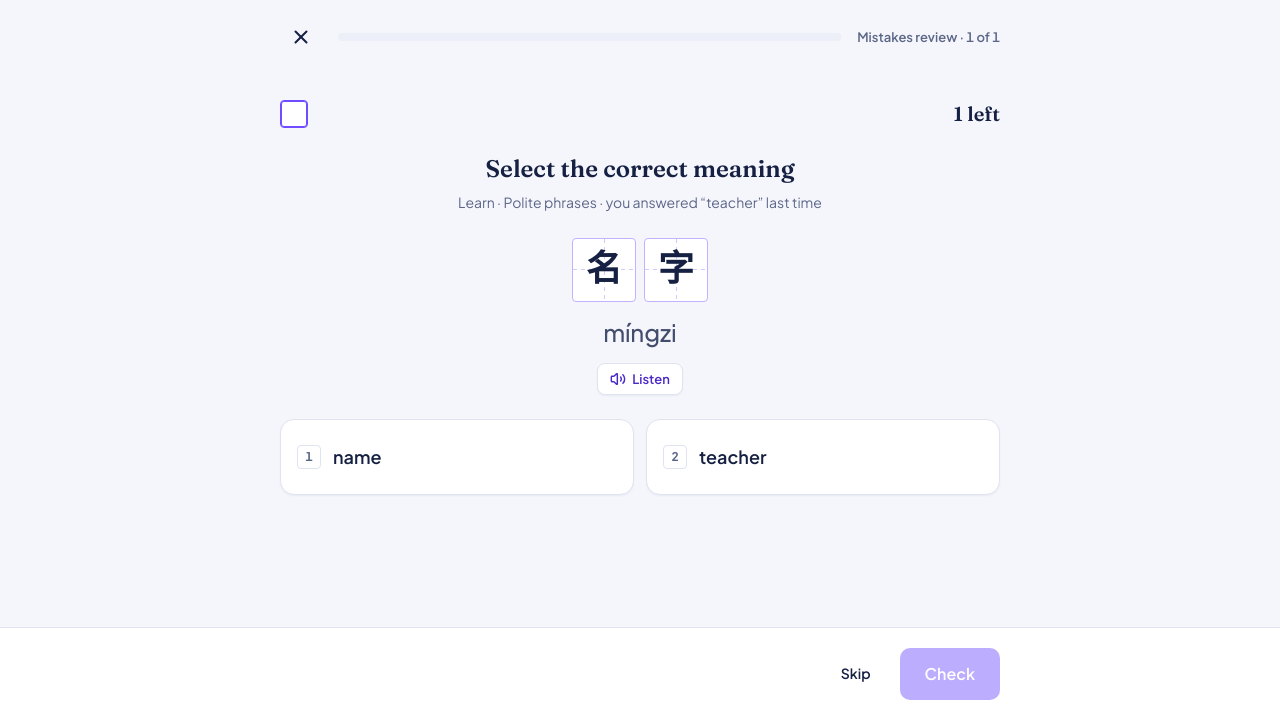
StudentMistakesReviewPage (focus mode review) › celebrates an empty list once the last mistake is fixed
The width and height of the screenshot is (1280, 720).
Click the button with test id "option-0".
click(357, 457)  # box [280,419,634,495]
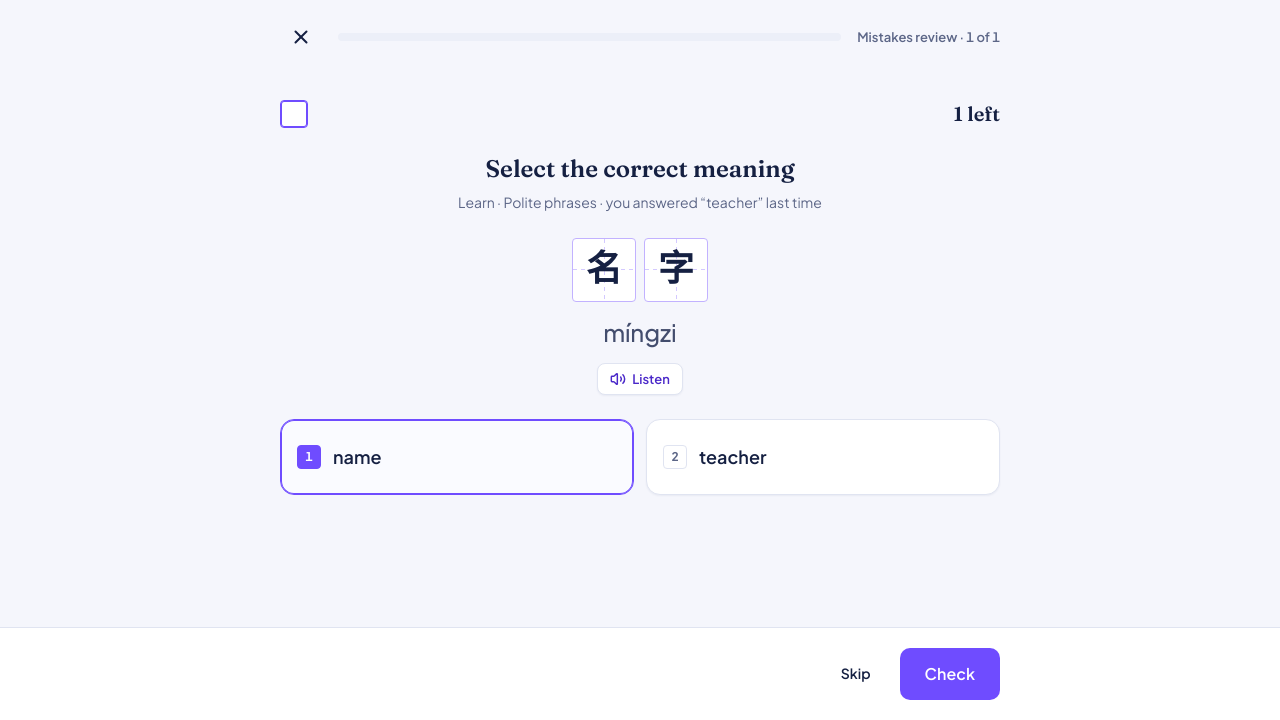
Click the button with test id "check".
click(950, 674)  # box [900,648,1000,700]
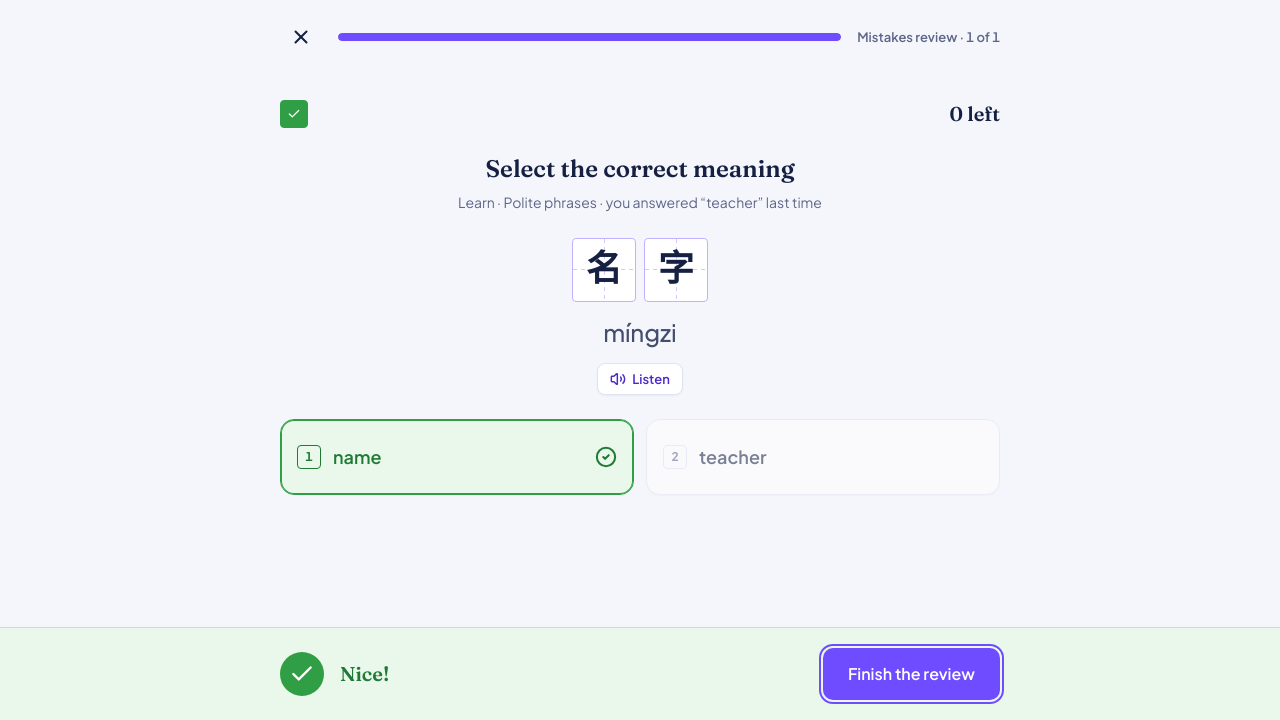
Click the button with test id "continue".
click(912, 674)  # box [823,648,1000,700]
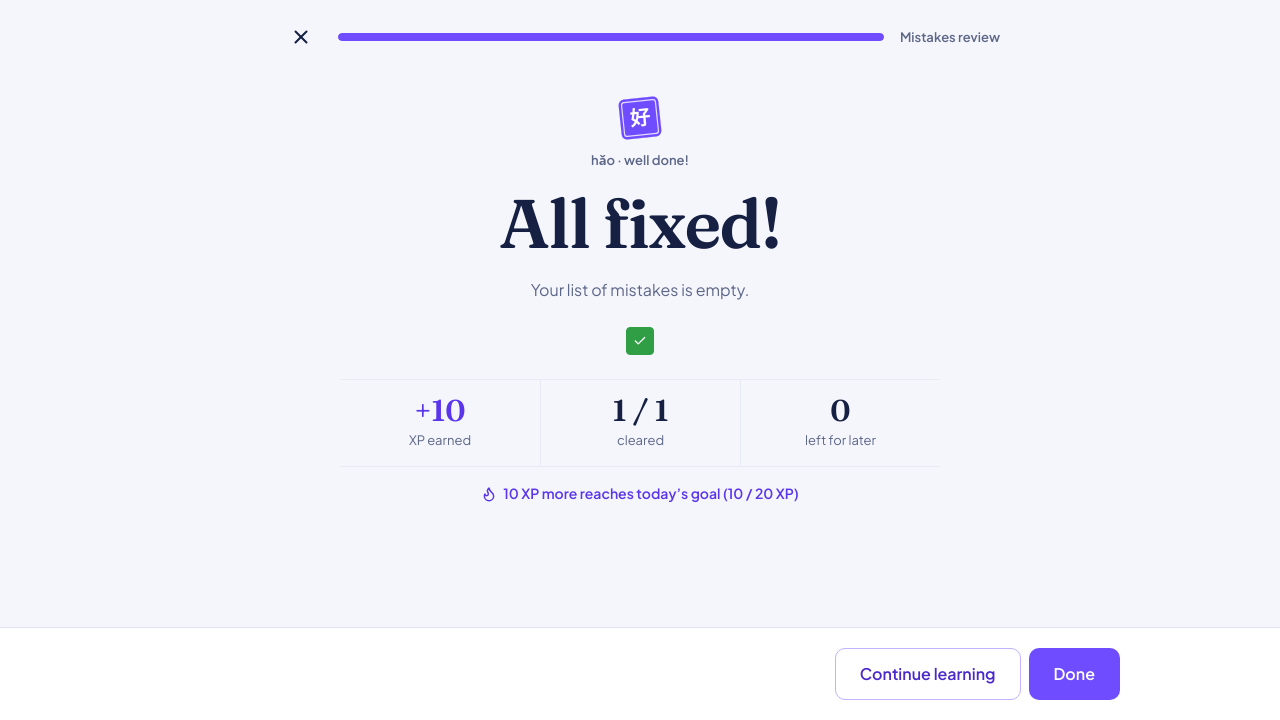
Result: the element with test id "review-complete" shows "All fixed!" at [499,181,781,266]
Result: the element with test id "review-complete" shows "Your list of mistakes is empty." at [531,279,749,300]
